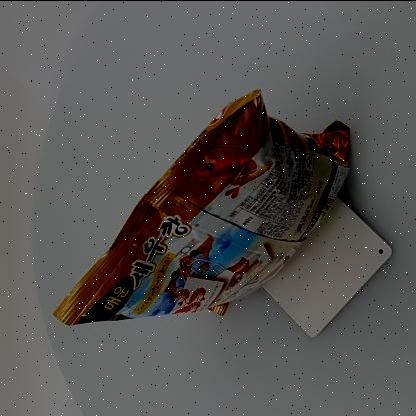Others: (44, 83, 360, 338)
